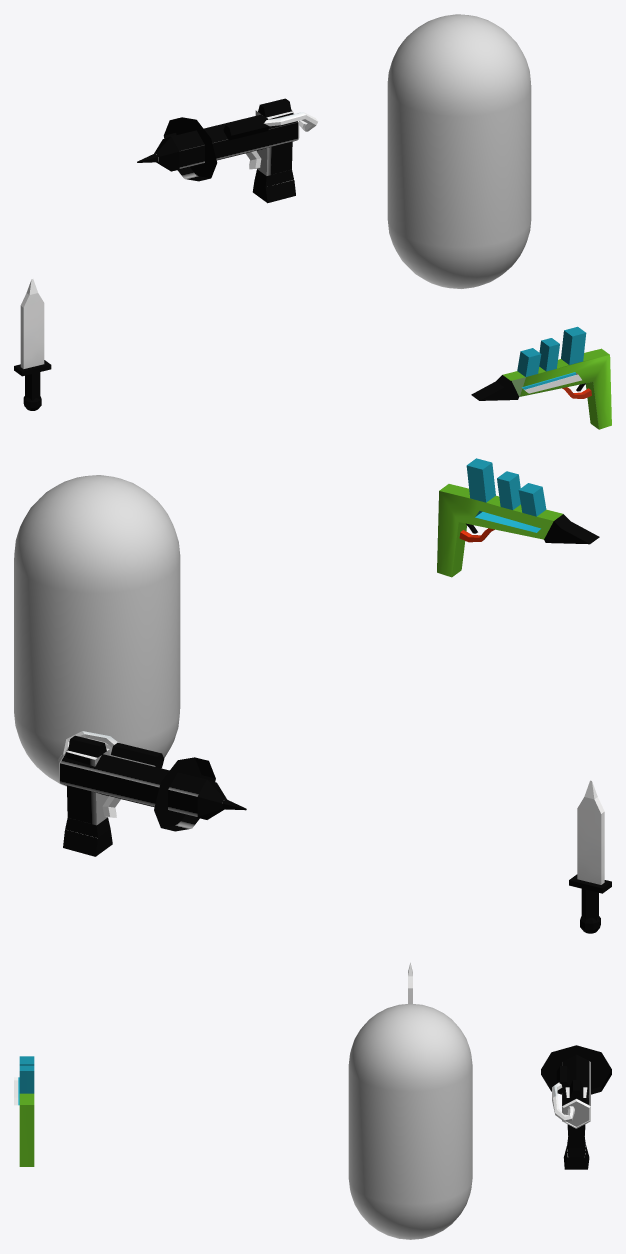
File: cuchillo fonal.fbx
3 views of the same model, one above another, from view 1: azimuth 30°, elevation 25°; view 2: azimuth 150°, elevation 25°; view 3: azimuth 270°, elevation 25° (orthographic). The views are drawn at different scales.
Visible parts, largest first — view 1: player, Cube, Cube.001, Cubo; view 2: player, Cube, Cube.001, Cubo; view 3: player, Cube, Cube.001.
Part boxes in pixels (bbox=[...]): player: bbox=[387, 14, 531, 288]; Cube: bbox=[137, 98, 317, 203]; Cube.001: bbox=[471, 326, 611, 429]; Cubo: bbox=[14, 279, 51, 410]; player: bbox=[14, 475, 180, 786]; Cube: bbox=[58, 731, 246, 856]; Cube.001: bbox=[437, 458, 599, 577]; Cubo: bbox=[569, 780, 611, 933]; player: bbox=[348, 1003, 472, 1239]; Cube: bbox=[541, 1045, 611, 1169]; Cube.001: bbox=[14, 1056, 34, 1166].
Bounding box in the file's own units: 403 × 218 × 482.
